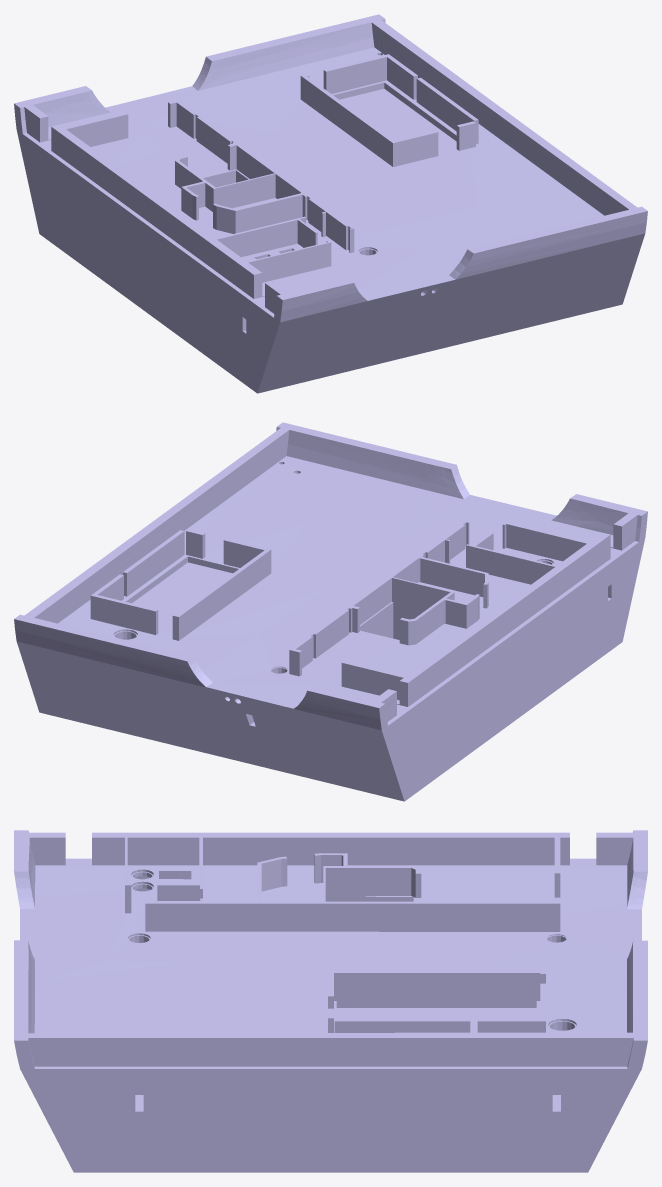
The model's file is US15-cut3.glb.
3 views of the same model, one above another, from view 1: azimuth 30°, elevation 25°; view 2: azimuth 150°, elevation 25°; view 3: azimuth 270°, elevation 25° (orthographic). The views are drawn at different scales.
Visible parts, largest first — view 1: null; view 2: null; view 3: null.
Part boxes in pixels (x1,y1,x2,y2): null: [14, 14, 647, 393]; null: [14, 422, 647, 801]; null: [14, 830, 647, 1172].
Bounding box in the file's own units: 17.4 × 5.1 × 22.18.
